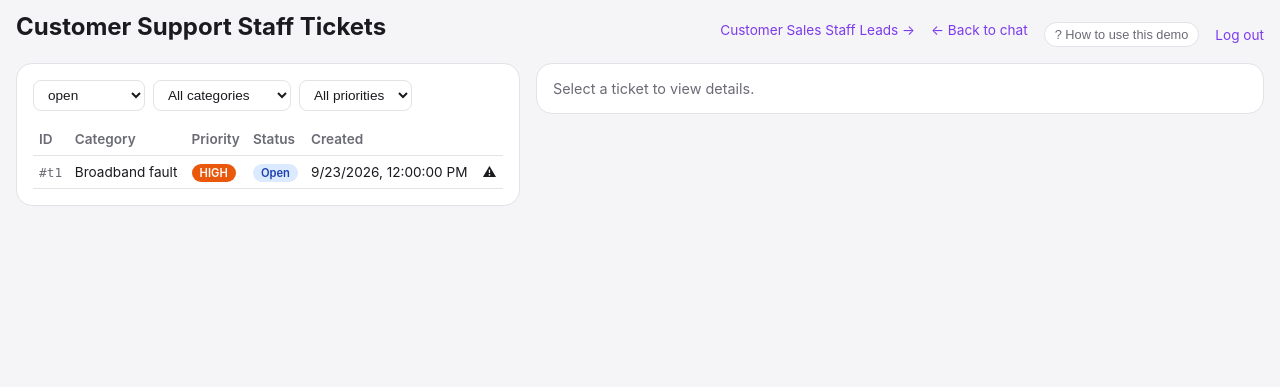
it: StaffDashboard › 'Not a duplicate' dismisses the warning and the banner disappears
The width and height of the screenshot is (1280, 387).
Click the text "Broadband fault": (268, 172) [33,156,503,188]
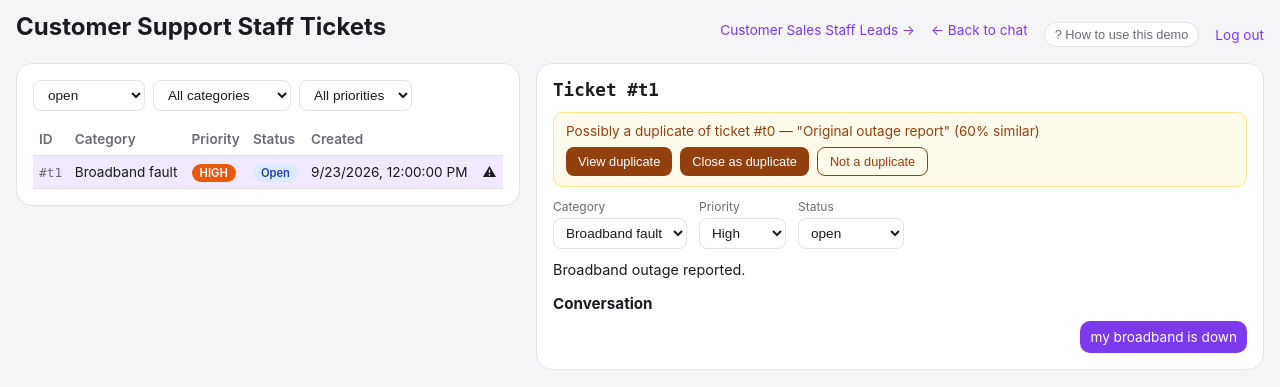
Click the button "Not a duplicate": (873, 162) [817,147,928,176]
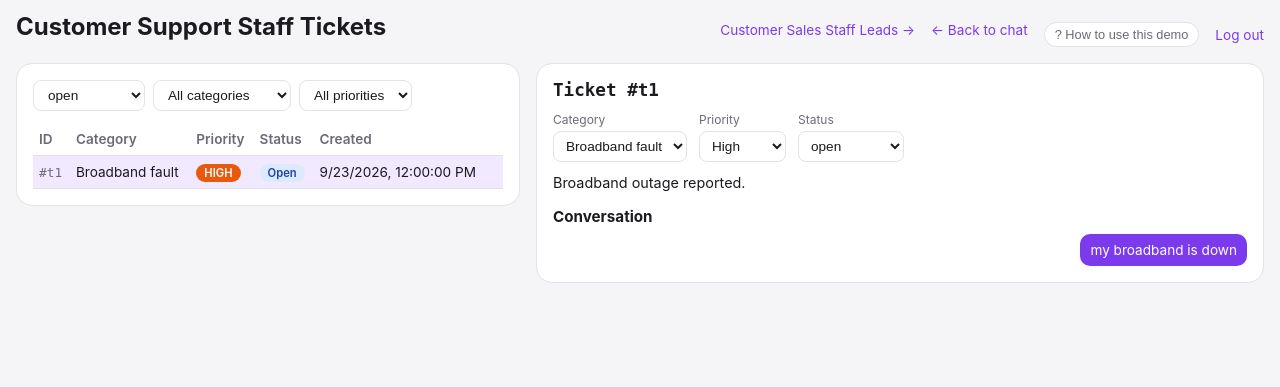
Expected: the text "Possibly a duplicate of ticket" is gone
